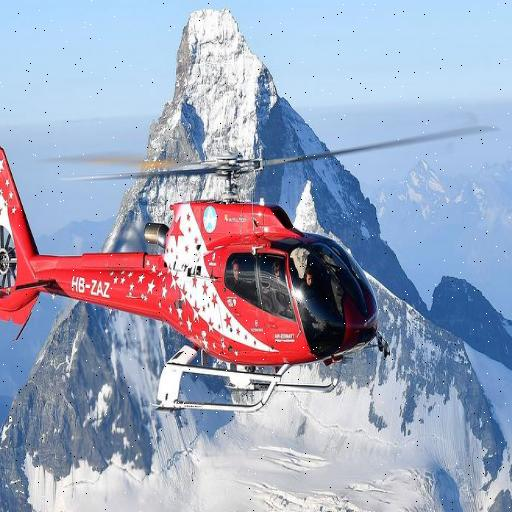helicopter: (1, 89, 467, 419)
